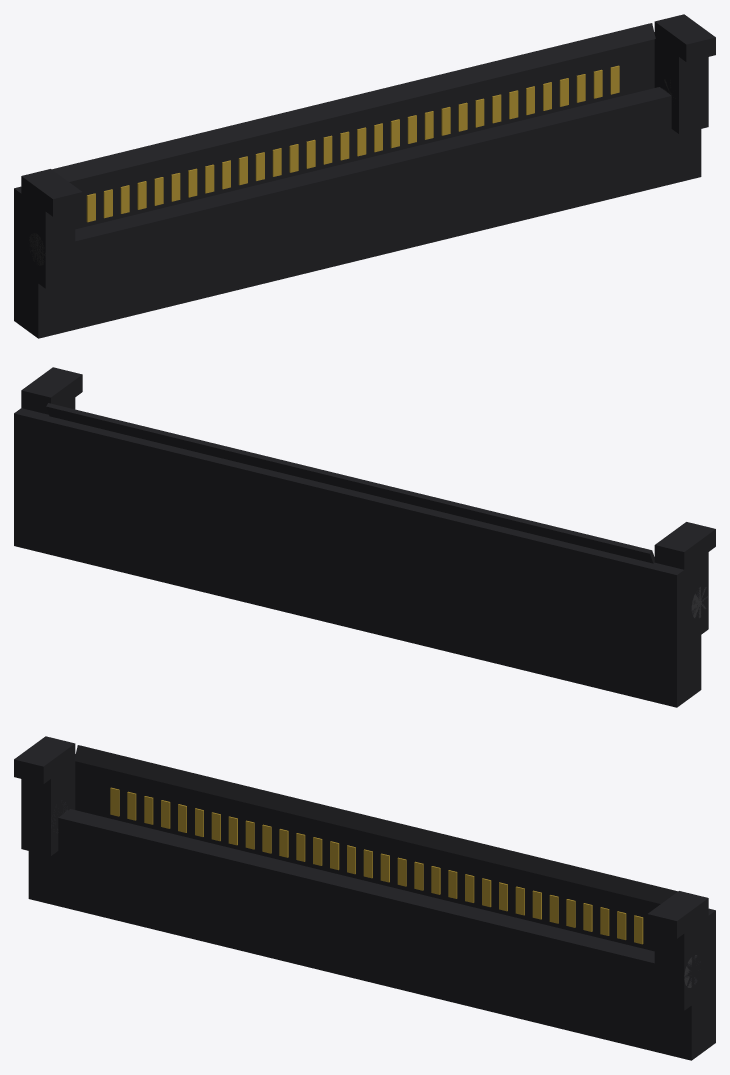
Rendered from zif_housing.obj.
The picture shows the model from 3 angles, top to bottom: view 1: azimuth 30°, elevation 25°; view 2: azimuth 150°, elevation 25°; view 3: azimuth 330°, elevation 25°; orthographic projection.
Bounding box in the file's own units: 0.0314 × 0.0068 × 0.0032.
